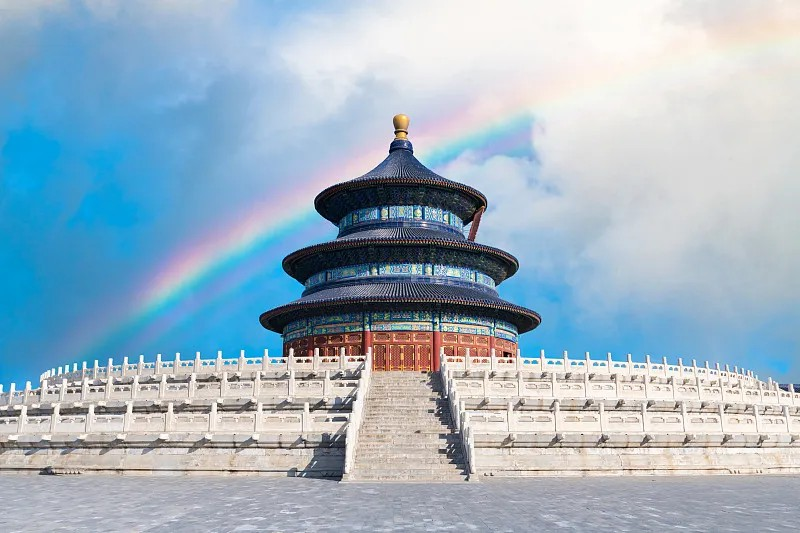Heaven: (258, 113, 543, 371)
